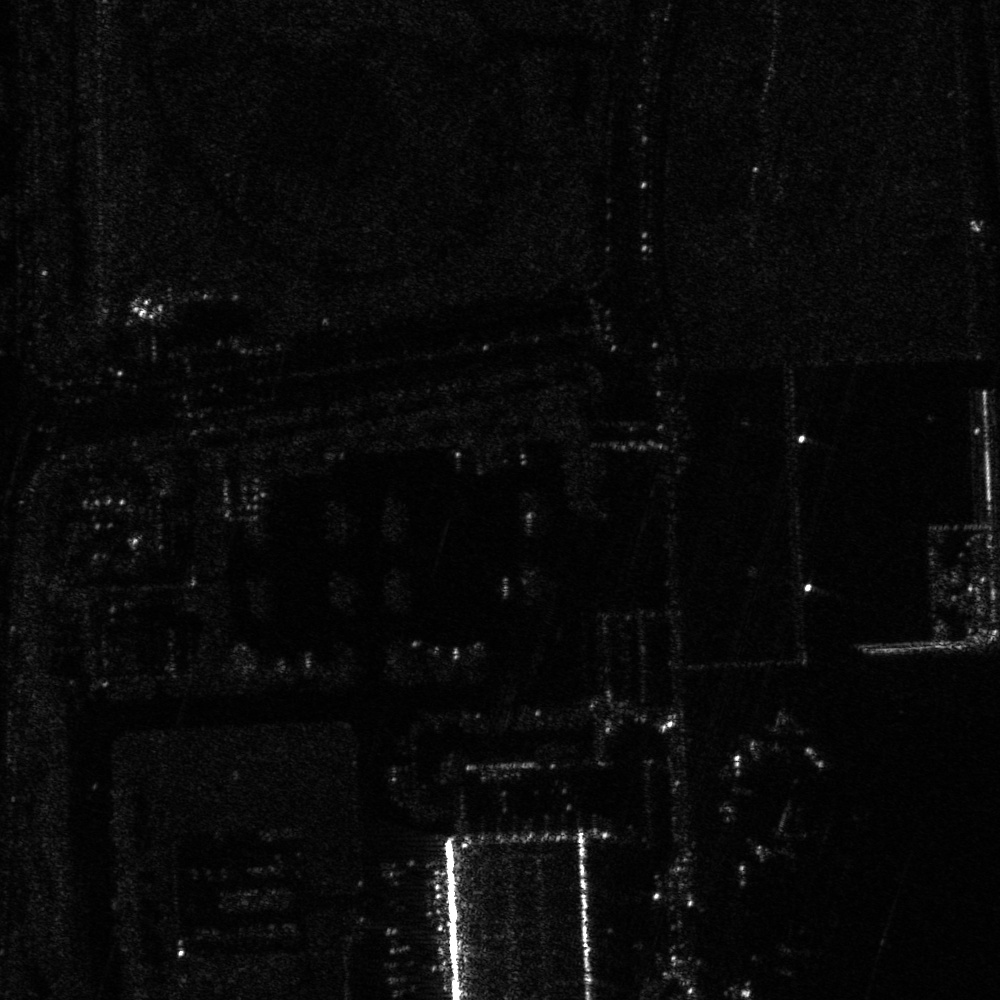A320/321: (751, 794, 819, 866)
